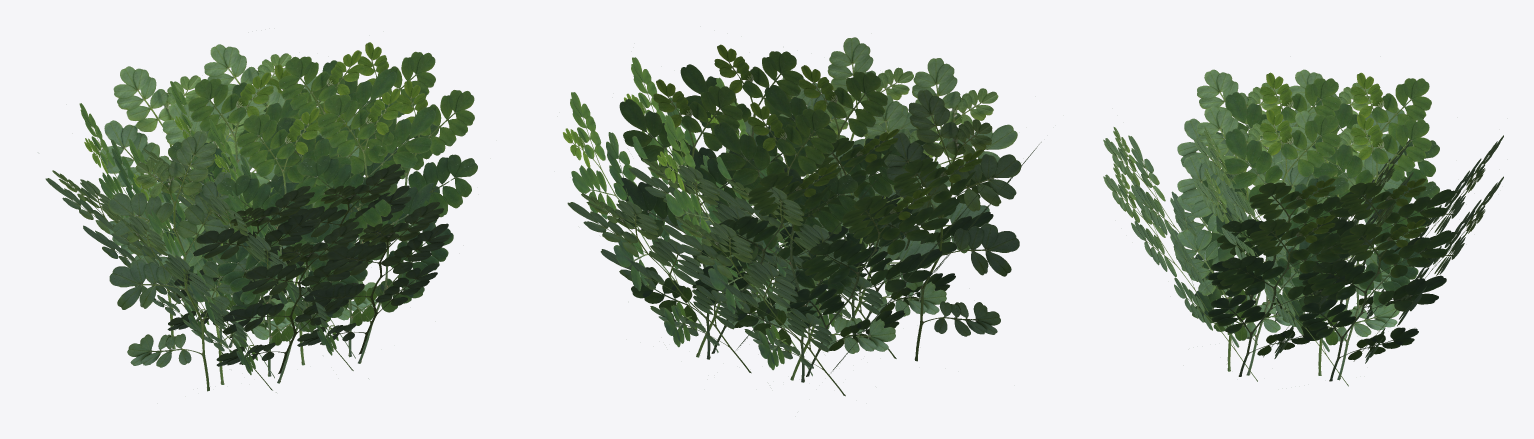
File: bush3.FBX
3 renders of one model, left to right at view 1: azimuth 30°, elevation 25°; view 2: azimuth 150°, elevation 25°; view 3: azimuth 270°, elevation 25°, orthographic. The views are drawn at different scales.
Visible parts, largest first — view 1: Box001; view 2: Box001; view 3: Box001.
Part boxes in pixels (x1,y1,x2,y2): Box001: (45, 42, 477, 392); Box001: (563, 37, 1041, 396); Box001: (1103, 69, 1503, 386).
Bounding box in the file's own units: 5.53 × 3.49 × 5.3.
